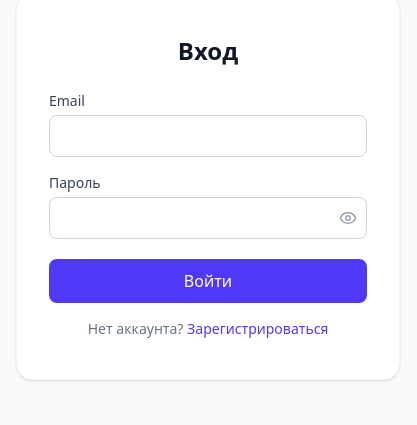
Test: LoginPage › показывает сообщение об ошибке от сервера при неудачном входе
This screenshot has width=417, height=425.
Type "user@test.com" into the field labelled "Email".
click(208, 136); type("user@test.com")  # box x1=49 y1=115 x2=367 y2=157
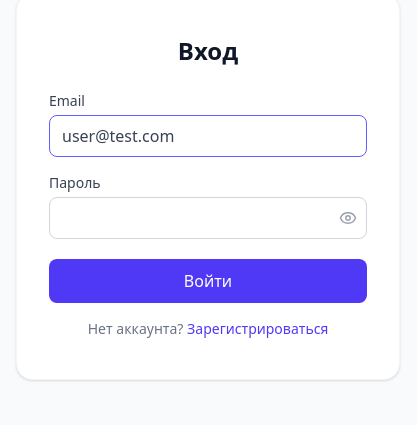
Type "wrong" into the password field labelled "Пароль".
click(208, 218); type("wrong")  # box x1=49 y1=197 x2=367 y2=239
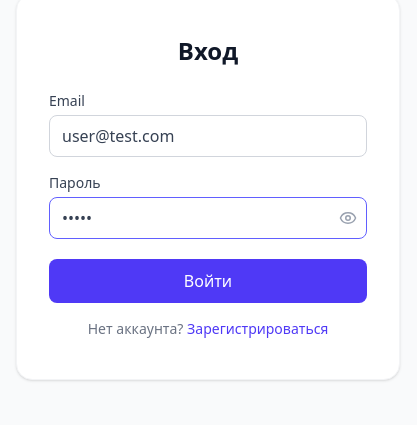
Click the button "Войти".
click(208, 281)  # box x1=49 y1=259 x2=367 y2=303
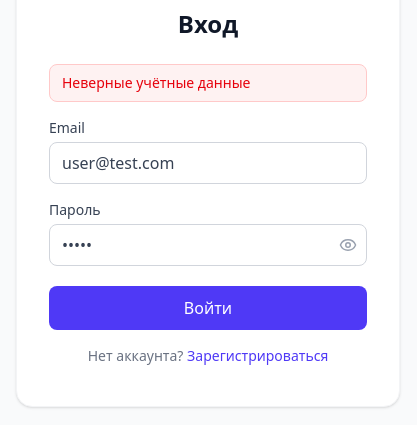
Expected: the message reads "Неверные учётные данные", x1=62 y1=73 x2=250 y2=92
